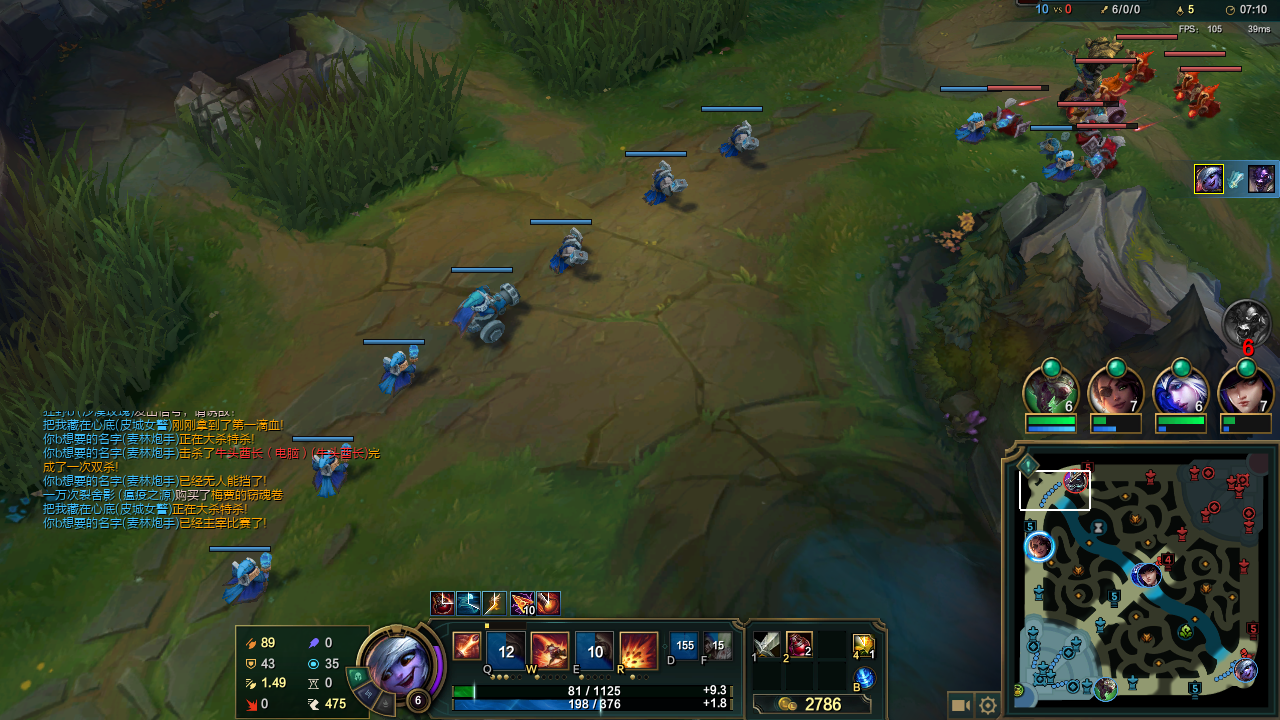DFXB: (1082, 130, 1129, 178), (981, 97, 1036, 137), (1092, 77, 1143, 120), (1180, 82, 1226, 121), (1065, 108, 1105, 149), (1125, 46, 1167, 81), (1167, 66, 1202, 105)
WFXB: (442, 280, 535, 351), (534, 225, 606, 279), (633, 160, 701, 213), (305, 441, 364, 501), (221, 548, 280, 608), (366, 345, 429, 393), (948, 105, 1007, 152), (708, 119, 771, 162), (1039, 144, 1096, 187)
Yita: (1187, 675, 1204, 699)
